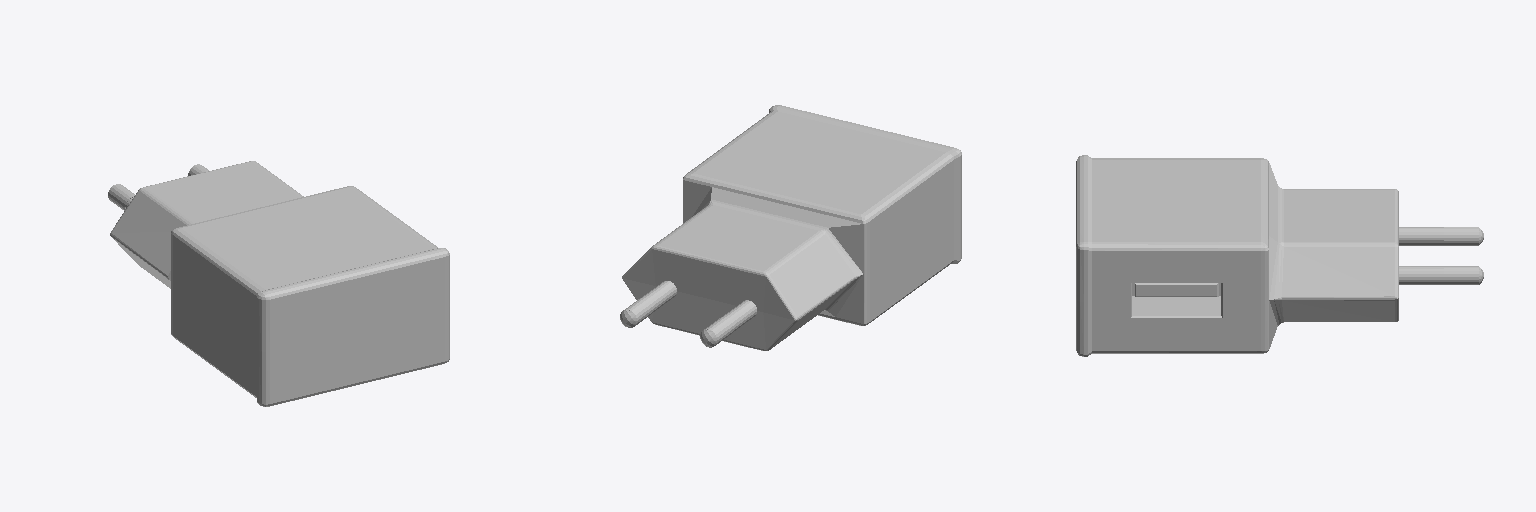
File: Charger.obj
3 views of the same model, side by side, from view 1: azimuth 30°, elevation 25°; view 2: azimuth 150°, elevation 25°; view 3: azimuth 270°, elevation 25° (orthographic).
Visible parts, largest first — view 1: Cube_Cube.001, Cylinder_Cylinder.001; view 2: Cube_Cube.001, Cylinder_Cylinder.001; view 3: Cube_Cube.001, Cylinder_Cylinder.001.
Boxes of the visible parts, box(x1,y1,x2,y2) form: Cube_Cube.001: box(110, 161, 449, 406); Cylinder_Cylinder.001: box(108, 164, 208, 210); Cube_Cube.001: box(622, 105, 961, 350); Cylinder_Cylinder.001: box(620, 281, 756, 347); Cube_Cube.001: box(1076, 155, 1398, 356); Cylinder_Cylinder.001: box(1399, 227, 1483, 284).
Bounding box in the file's own units: 0.0361 × 0.0206 × 0.0668.